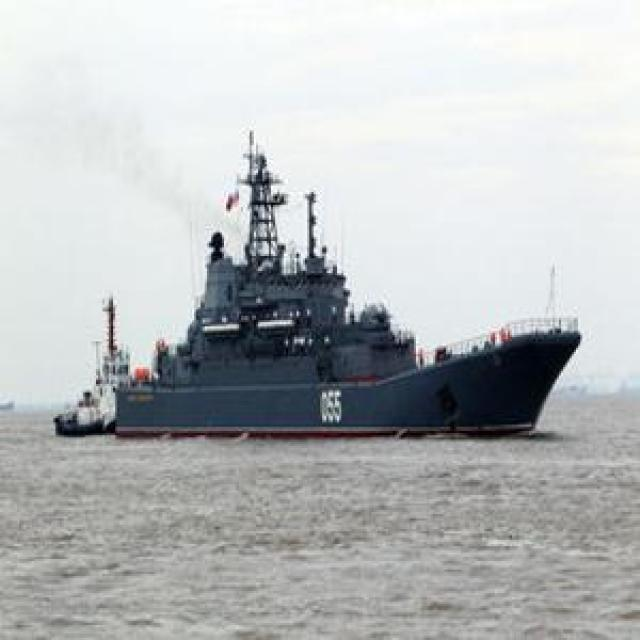houseboat: (54, 291, 143, 438)
navalvessels: (116, 133, 579, 440)
